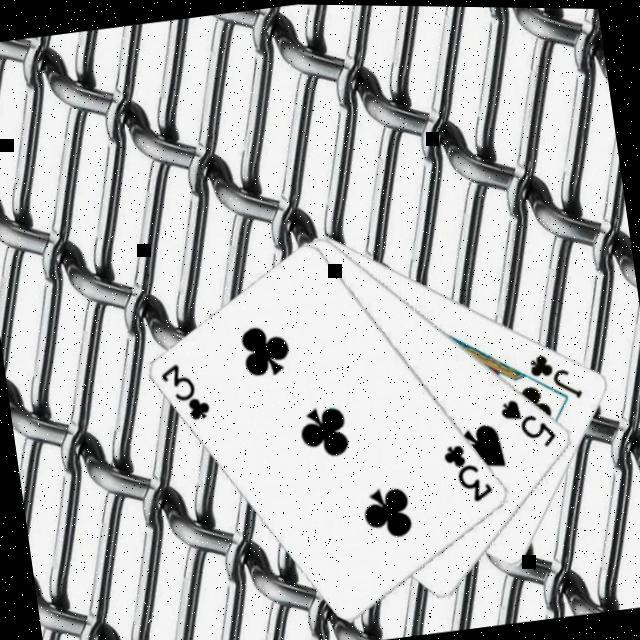3C: (438, 438, 497, 510), (154, 358, 213, 430)
5S: (494, 391, 560, 456)
JC: (523, 346, 586, 408)
